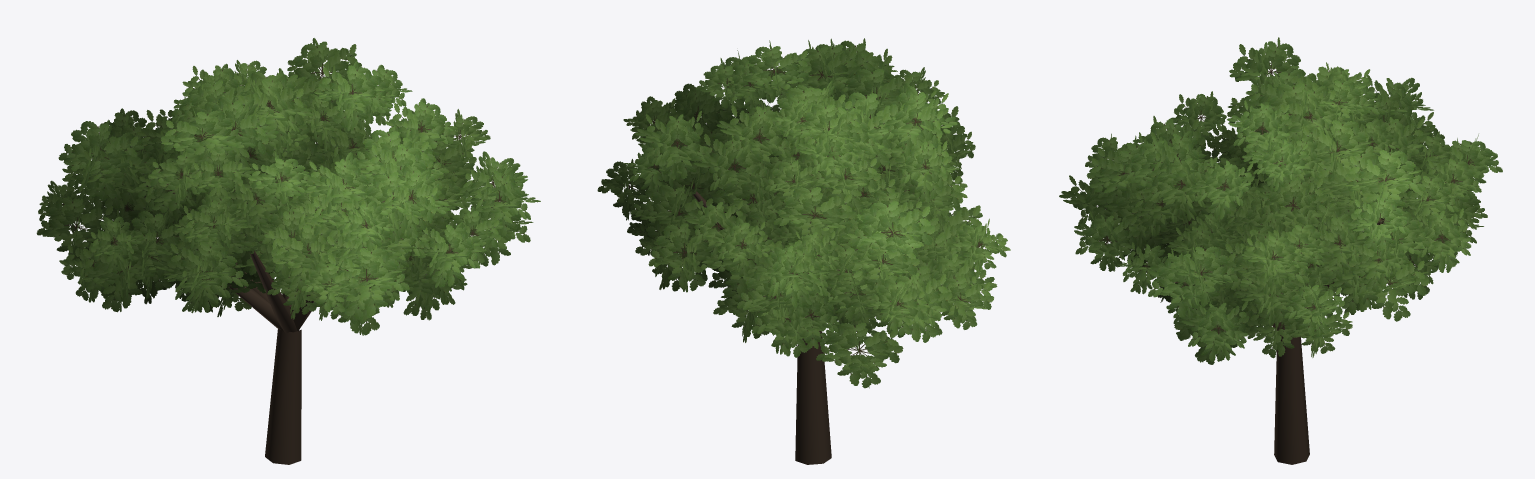
File: tree-roble.glb
The picture shows the model from 3 angles, left to right: view 1: azimuth 30°, elevation 25°; view 2: azimuth 150°, elevation 25°; view 3: azimuth 270°, elevation 25°; orthographic projection. The views are drawn at different scales.
Parts seen in each view (by area): view 1: tree-roble; view 2: tree-roble; view 3: tree-roble.
Part boxes in pixels (<box>): tree-roble: <box>36,38,540,464</box>; tree-roble: <box>597,38,1010,464</box>; tree-roble: <box>1059,37,1502,464</box>.
Size of the model in its own units: 18.52 by 16.78 by 18.39.
2 materials, 1 textured.
